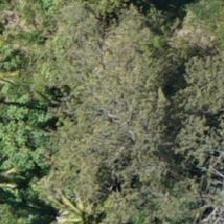coconut_tree: (28, 176, 118, 223)
